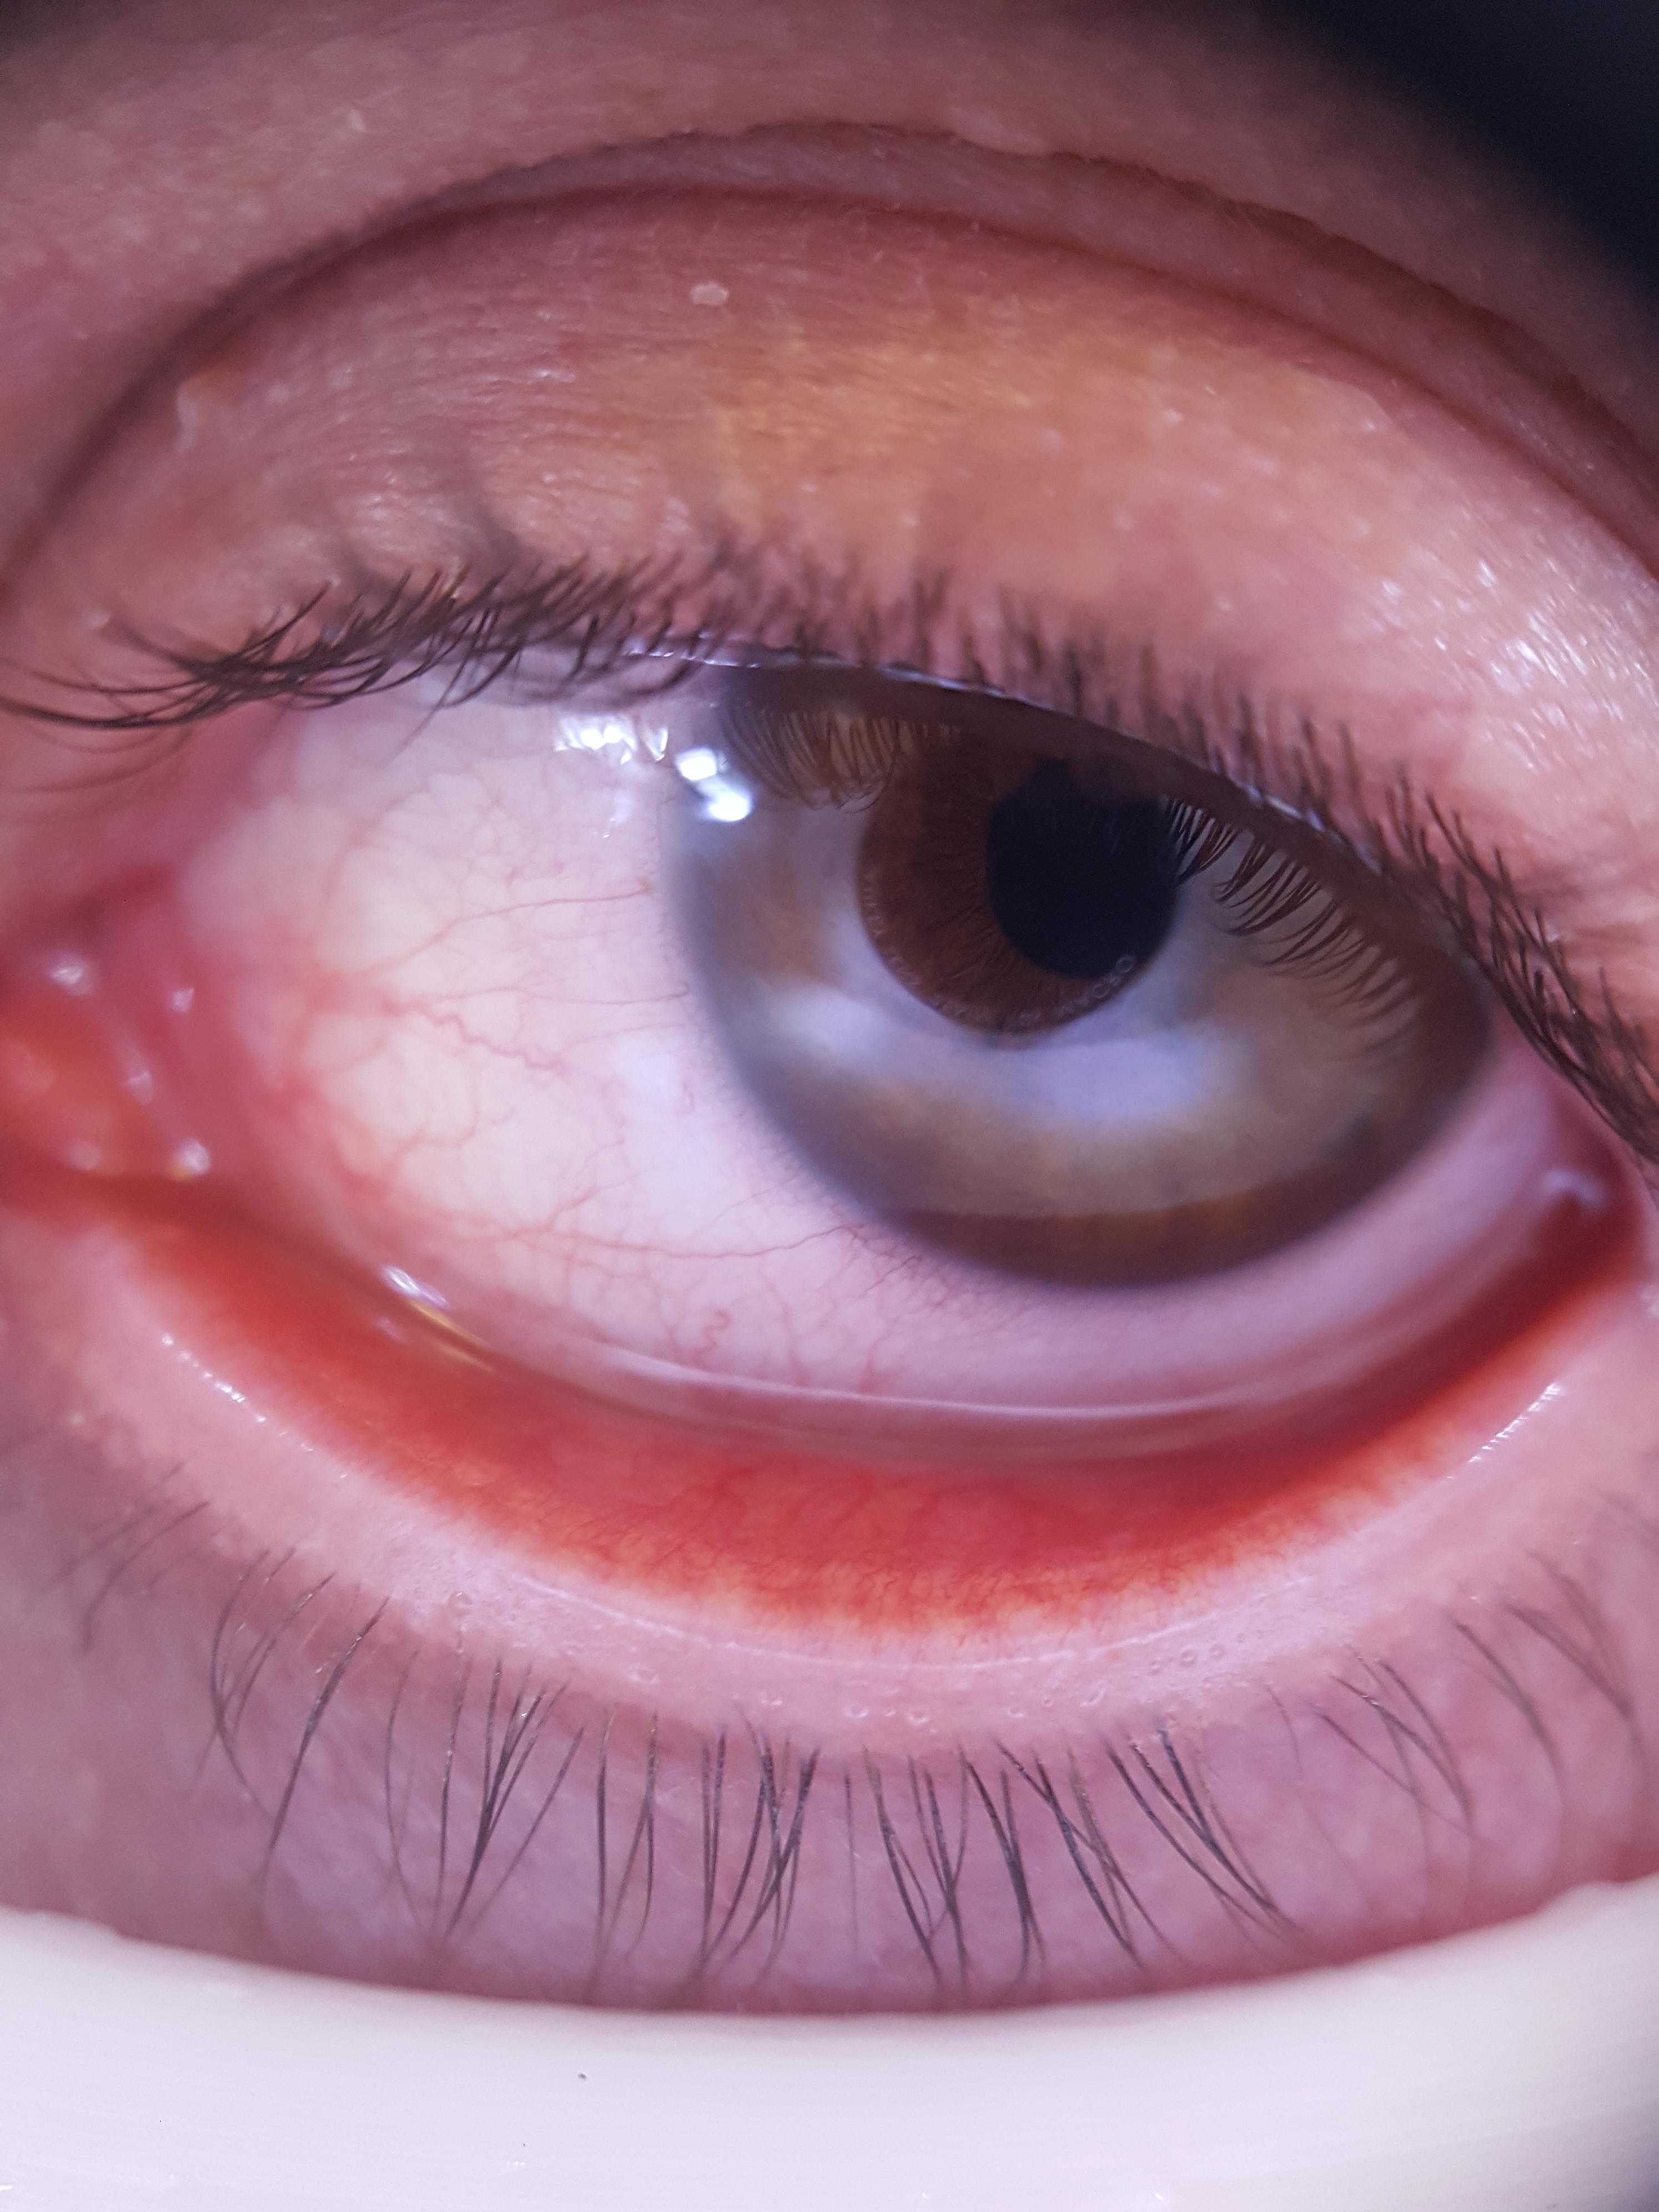forniceal: (366, 1188, 1593, 1460)
forniceal_palpebral: (113, 1179, 1612, 1604)
palpebral: (113, 1183, 1612, 1604)
